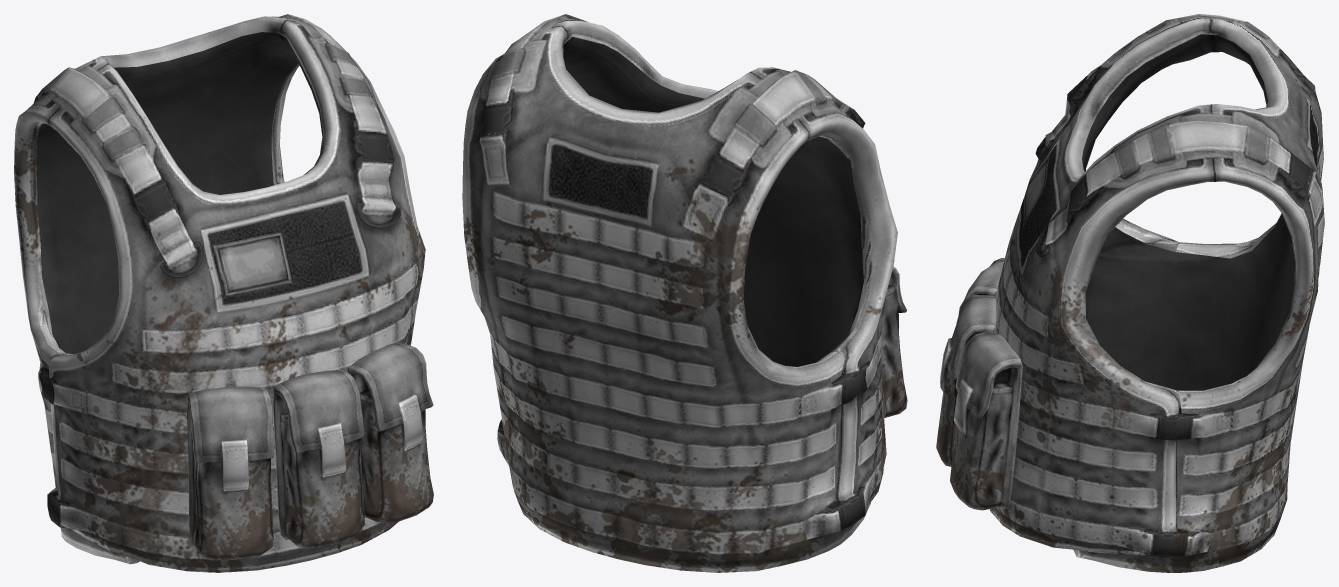
Rendered from SurvivorMale_Armor_Kevlar_Military_LOD0.glb.
3 views of the same model, side by side, from view 1: azimuth 30°, elevation 25°; view 2: azimuth 150°, elevation 25°; view 3: azimuth 270°, elevation 25° (orthographic). The views are drawn at different scales.
Visible parts, largest first — view 1: Hoodie; view 2: Hoodie; view 3: Hoodie.
Boxes of the visible parts, x1,y1,x2,y2 form: Hoodie: [14, 14, 433, 572]; Hoodie: [462, 14, 907, 572]; Hoodie: [936, 14, 1324, 572].
Size of the model in its own units: 0.4061 by 0.5166 by 0.4043.
1 material, 1 textured.
